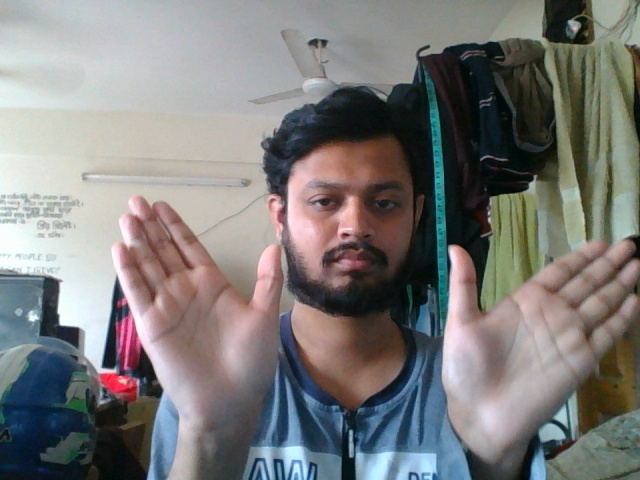naa: (105, 190, 640, 453)
